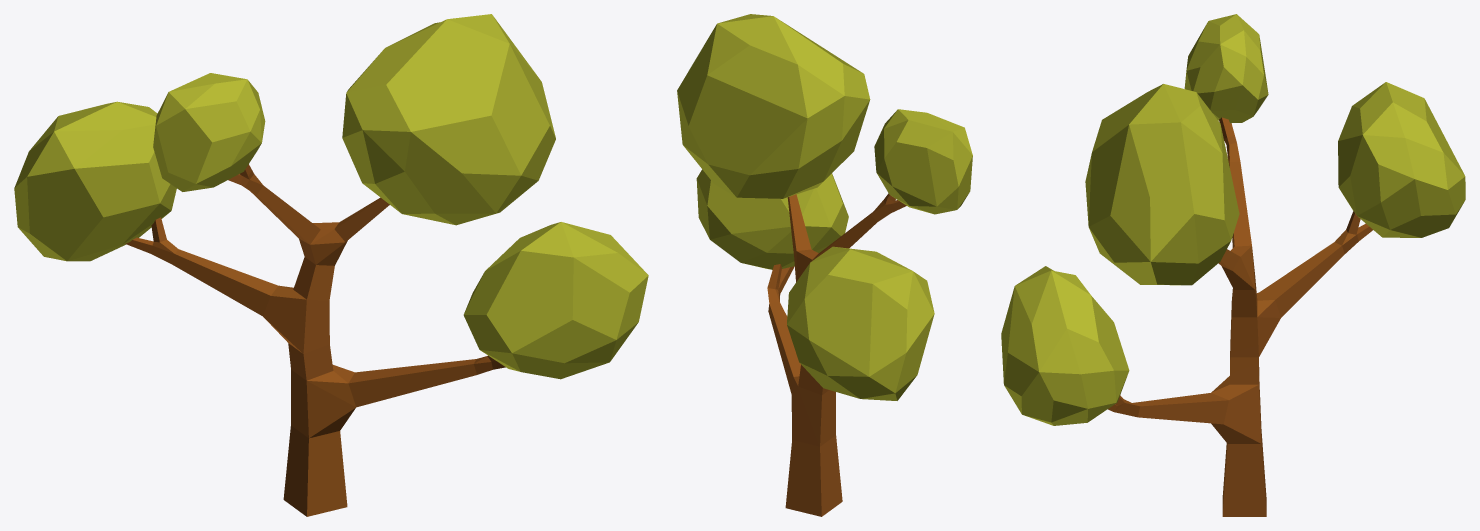
File: Tree_10.fbx
3 renders of one model, left to right at view 1: azimuth 30°, elevation 25°; view 2: azimuth 150°, elevation 25°; view 3: azimuth 270°, elevation 25°, orthographic. The views are drawn at different scales.
Parts seen in each view (by area): view 1: Tree_10; view 2: Tree_10; view 3: Tree_10.
Boxes of the visible parts, <box> form: Tree_10: <box>14,14,648,516</box>; Tree_10: <box>677,14,972,516</box>; Tree_10: <box>1001,14,1465,516</box>.
Size of the model in its own units: 1799 by 1950 by 1767.
